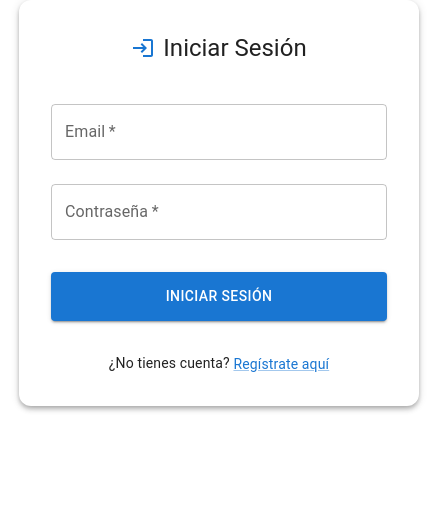
Test: Login Component › maneja error de conexión
Type "test@example.com" into the field labelled "Email *" at coordinates (219, 132), box [51,104,387,160]
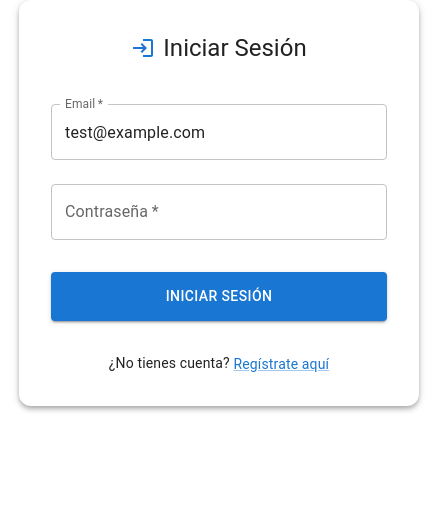
Type "123456" into the password field labelled "Contraseña *" at coordinates (219, 212), box [51,184,387,240]
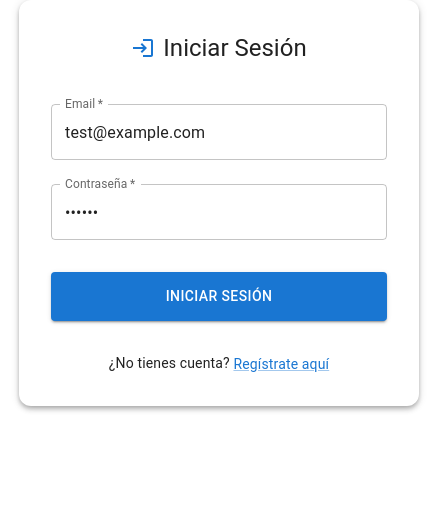
Click the button "Iniciar Sesión" at coordinates (219, 296), box [51,272,387,320]
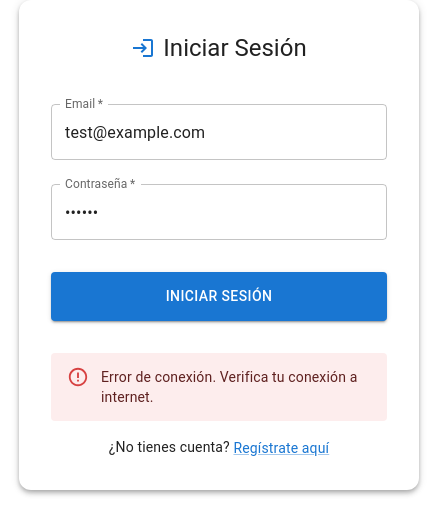
Expected: the text "Error de conexión. Verifica tu conexión a internet." is shown, [101,358,371,414]
